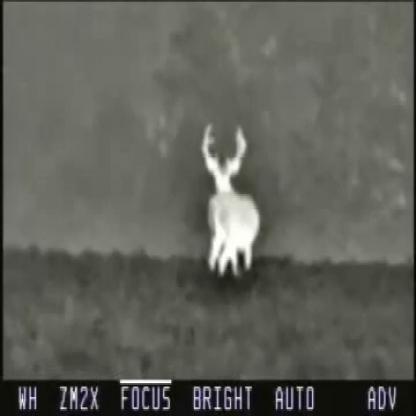rehkitze: (195, 122, 265, 284)
